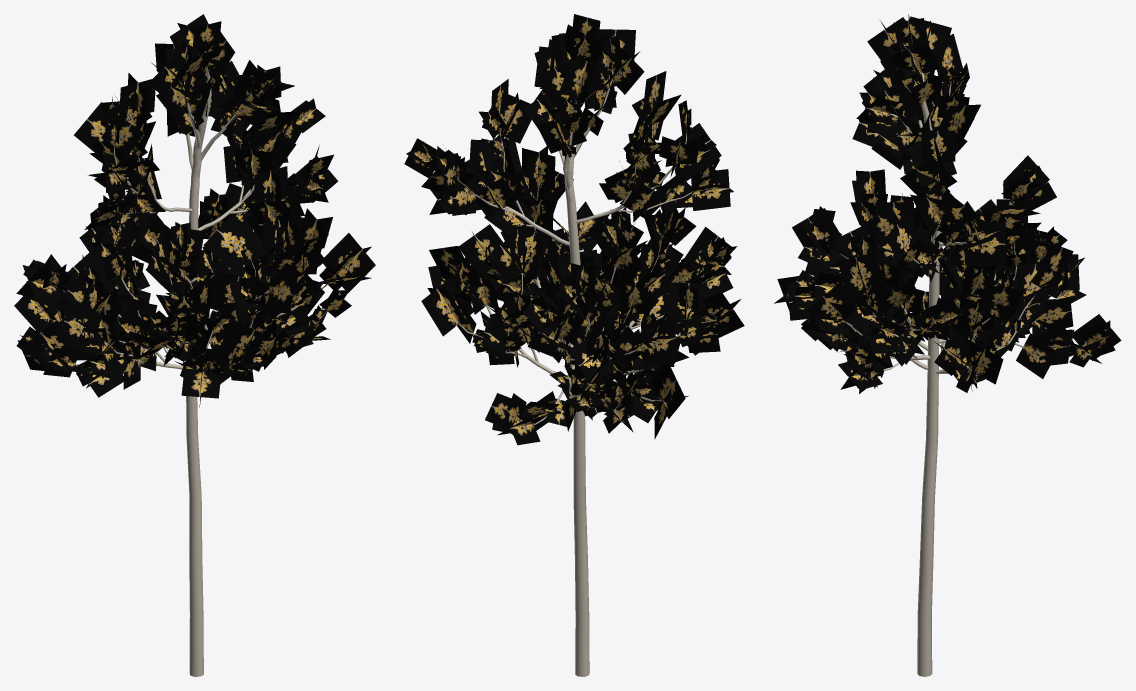
File: aspen-b.glb
3 views of the same model, side by side, from view 1: azimuth 30°, elevation 25°; view 2: azimuth 150°, elevation 25°; view 3: azimuth 270°, elevation 25° (orthographic).
Bounding box in the file's own units: 4.39 × 9.09 × 4.37.
2 materials, 1 textured.
